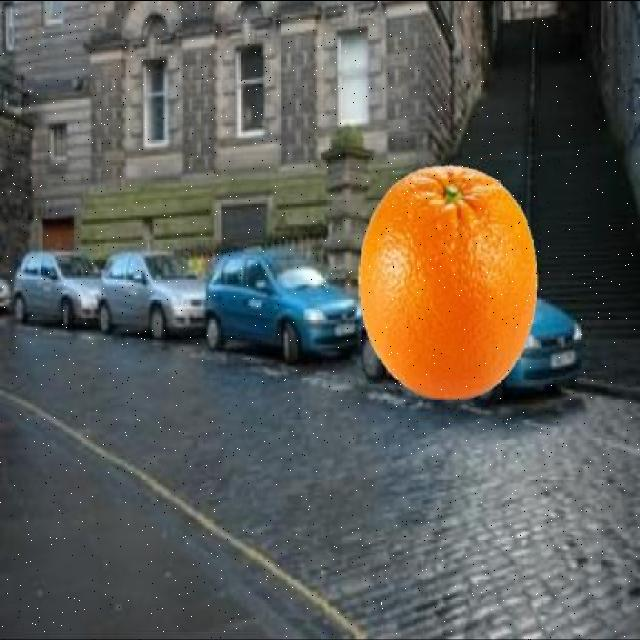Orange: (356, 163, 538, 403)
